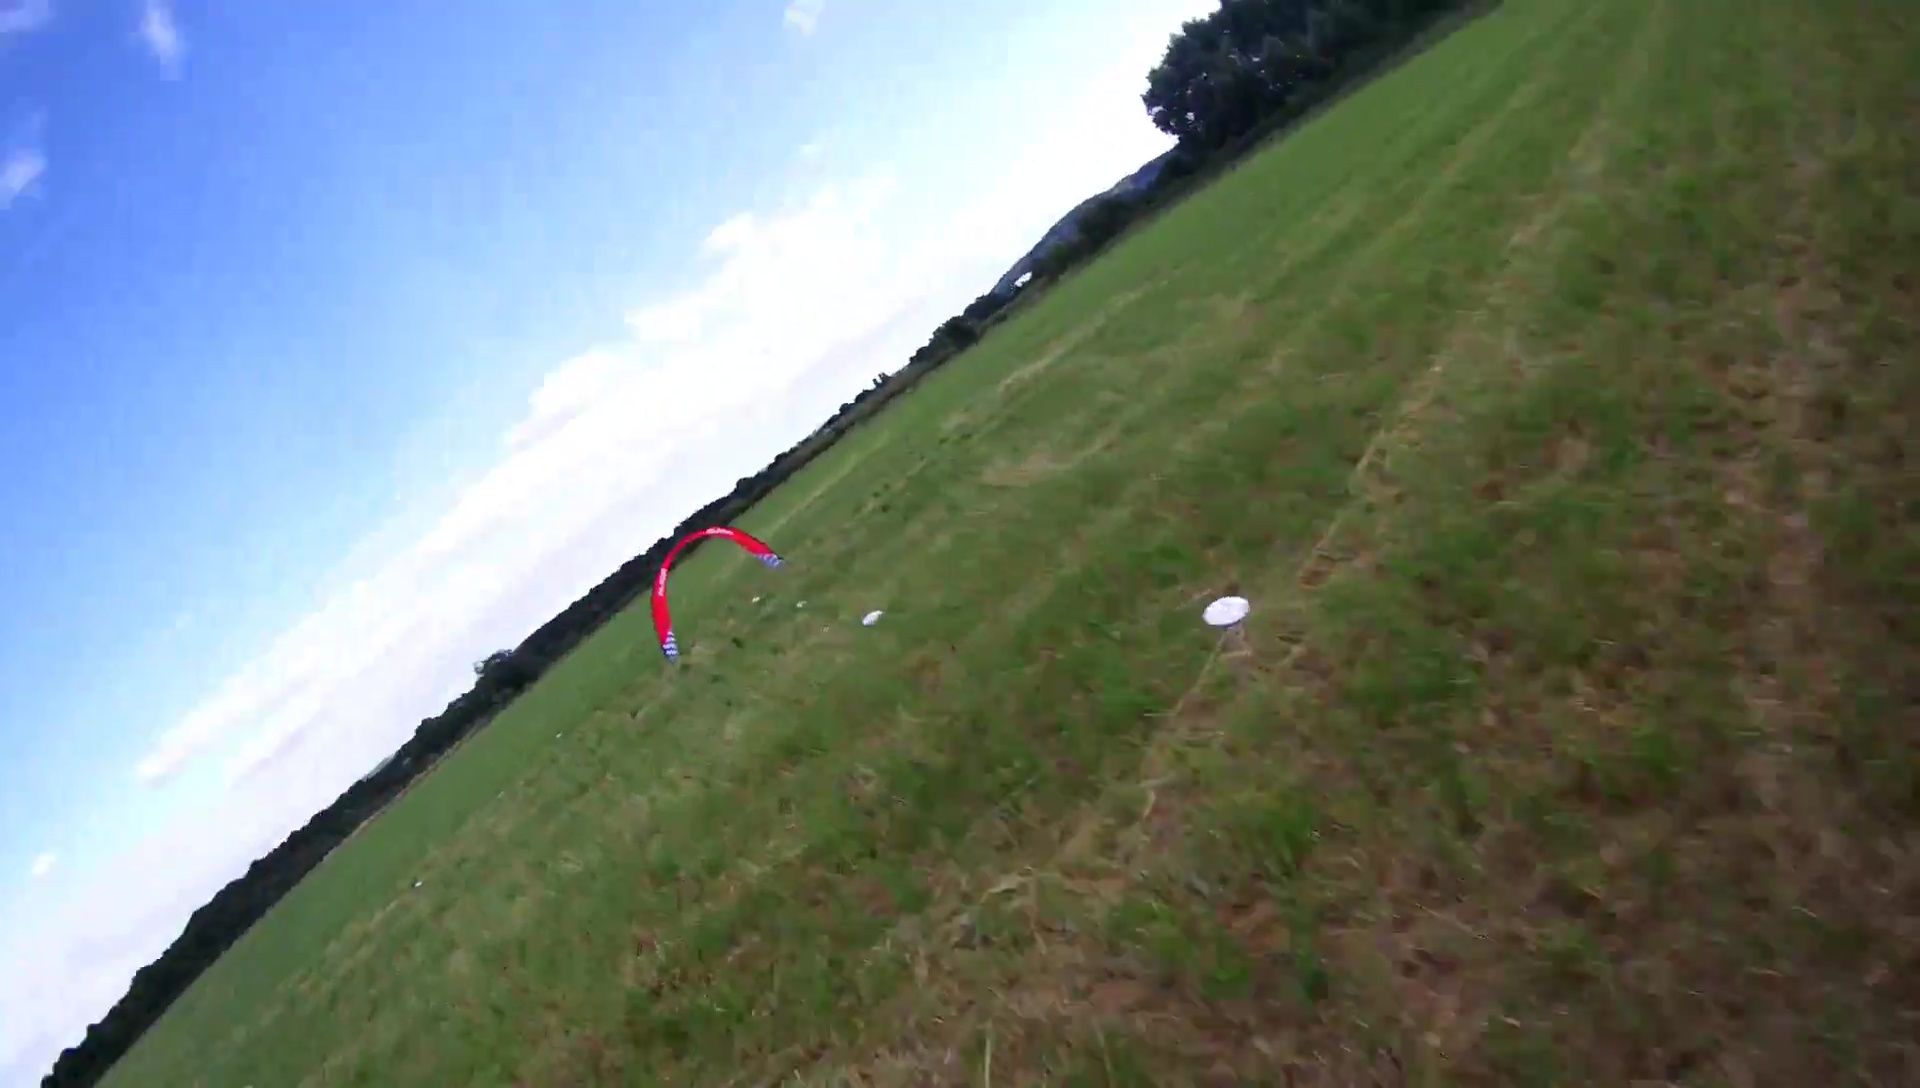gate: (651, 524, 789, 663)
